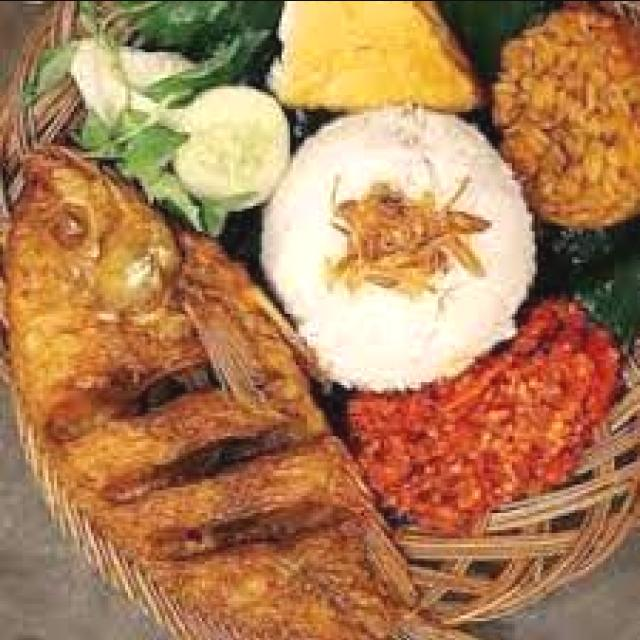ikan goreng: (6, 145, 418, 640)
nasi: (262, 102, 540, 393)
tempe goreng: (495, 0, 640, 230)
